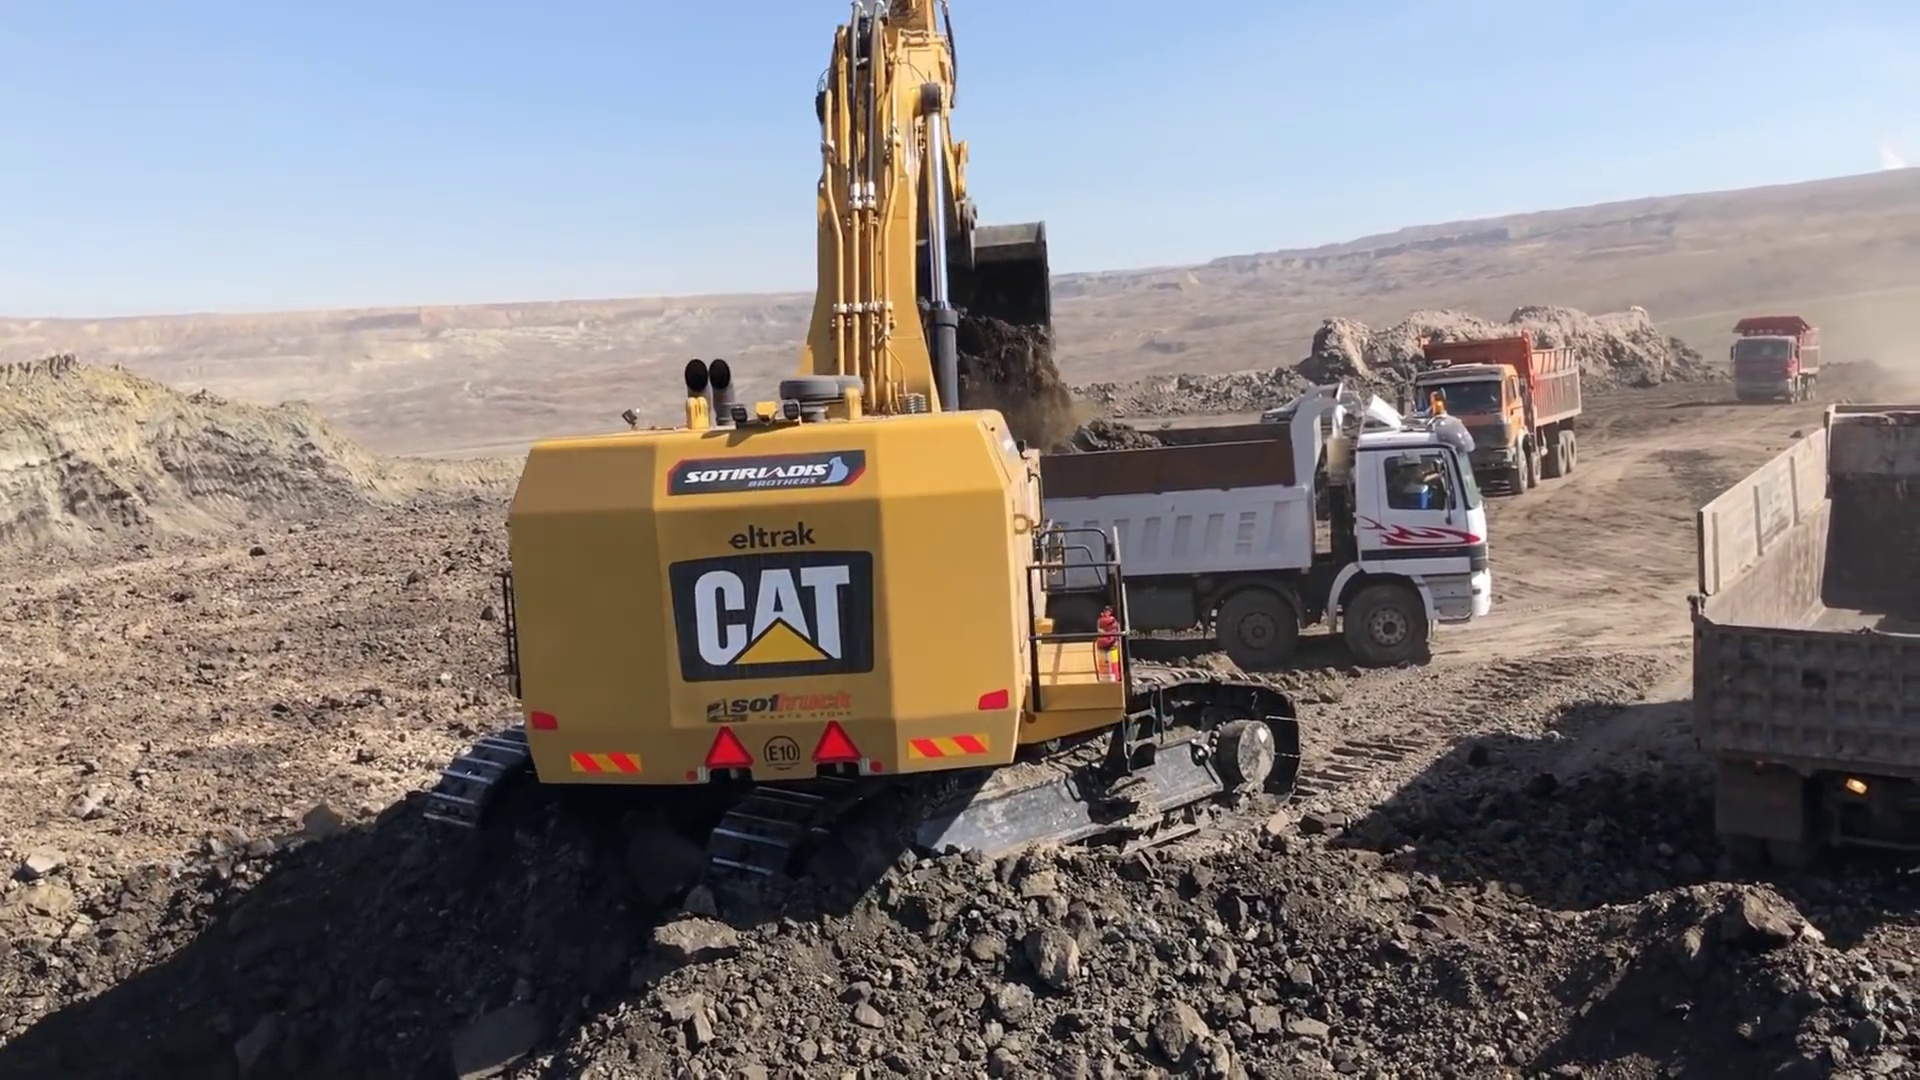excavator: (425, 7, 1305, 960)
truck: (1034, 384, 1491, 678), (1665, 407, 1920, 887), (1419, 328, 1588, 492), (1724, 306, 1822, 402)
